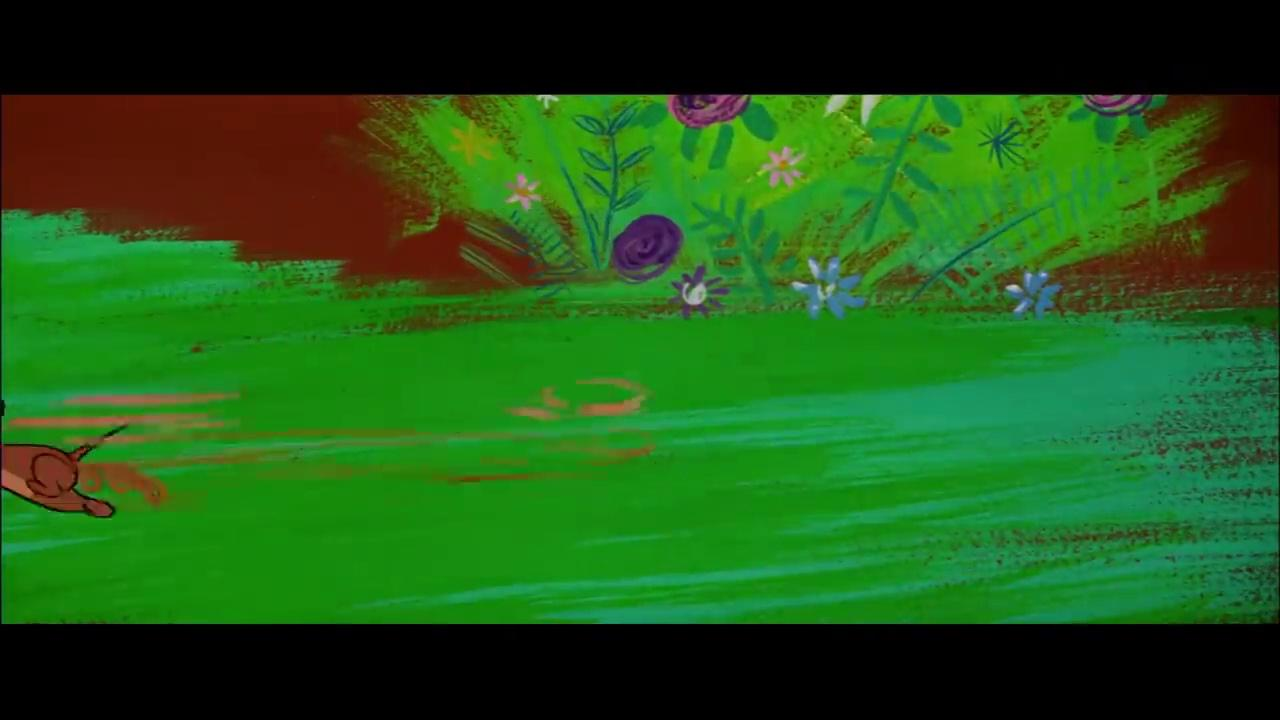Jerry: (0, 420, 130, 520)
